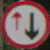Two way: (5, 4, 42, 43)
